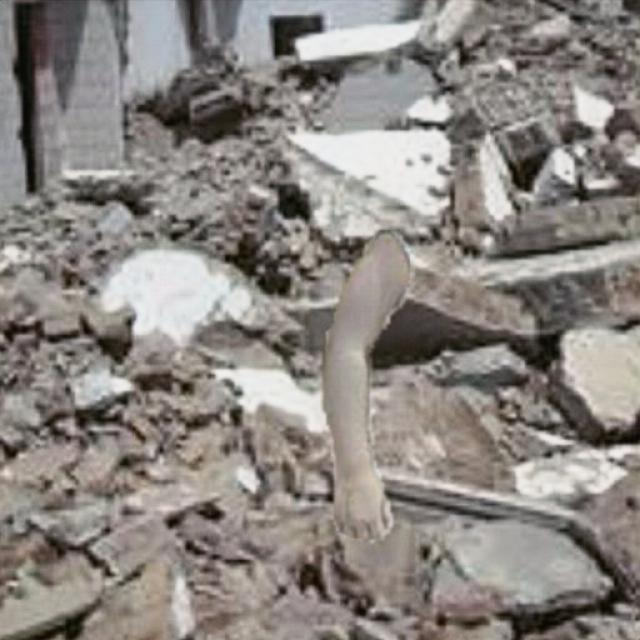Person in Rubble: (322, 230, 408, 541)
